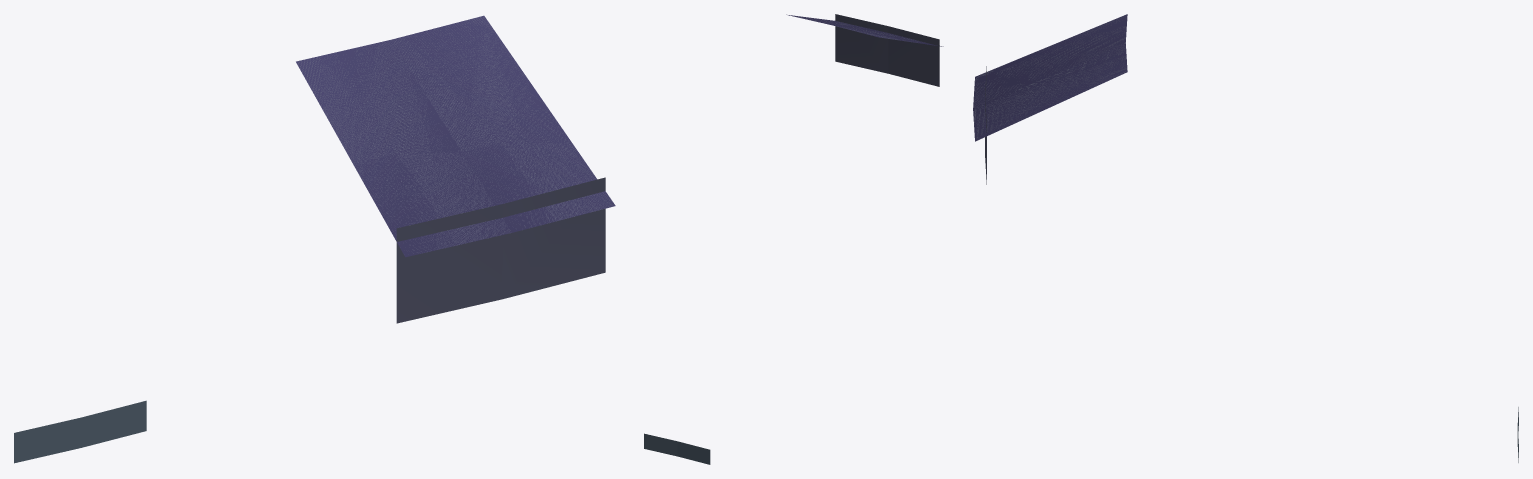
Rendered from wedge-lod2.fbx.
3 renders of one model, left to right at view 1: azimuth 30°, elevation 25°; view 2: azimuth 150°, elevation 25°; view 3: azimuth 270°, elevation 25°, orthographic. The views are drawn at different scales.
Visible parts, largest first — view 1: VandeWedge_LOD2; view 2: VandeWedge_LOD2; view 3: VandeWedge_LOD2.
Boxes of the visible parts, <box> form: VandeWedge_LOD2: <box>14,15,615,463</box>; VandeWedge_LOD2: <box>644,14,943,464</box>; VandeWedge_LOD2: <box>973,14,1518,462</box>.
Size of the model in its own units: 1157 by 3335 by 4110.
